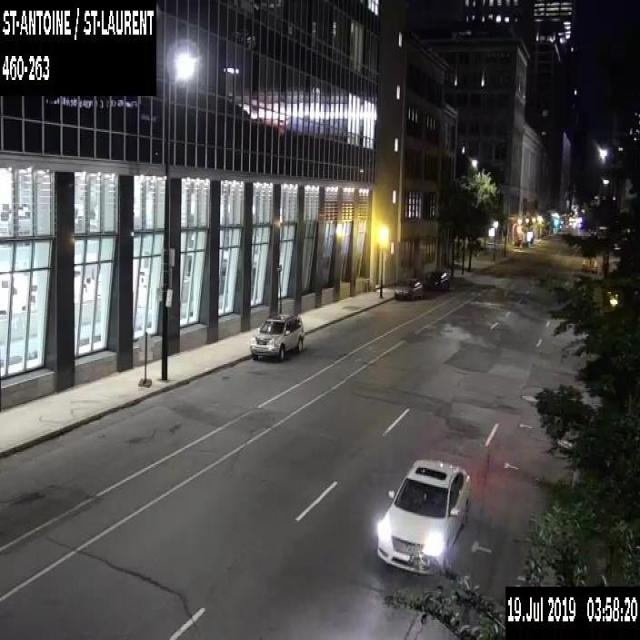construction: (136, 329, 154, 385), (581, 258, 597, 274)
vehicle: (375, 457, 470, 576), (248, 310, 304, 362), (393, 276, 423, 299), (426, 269, 450, 290)
